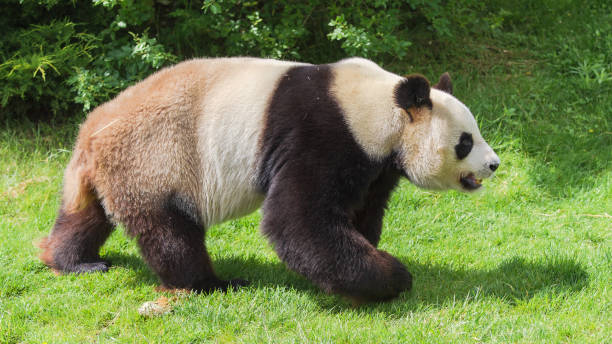panda: (378, 53, 512, 203)
